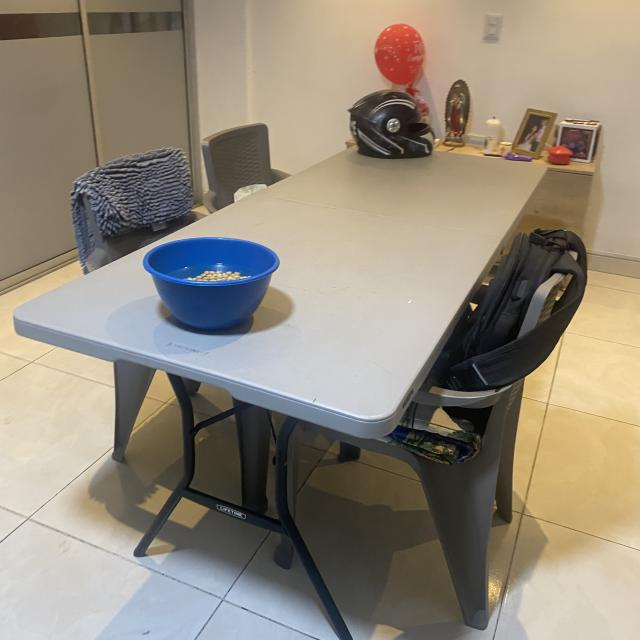obstacle: (72, 122, 598, 628)
